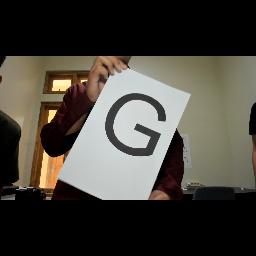g: (103, 88, 169, 162)
